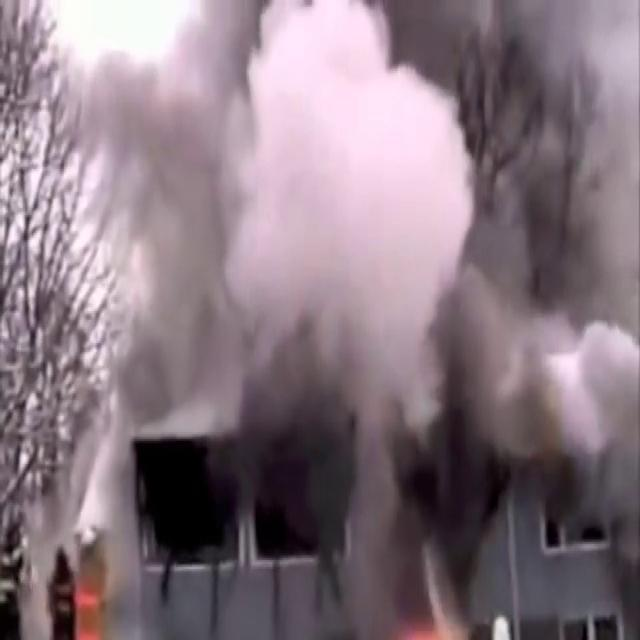Smoke: (70, 0, 639, 613)
